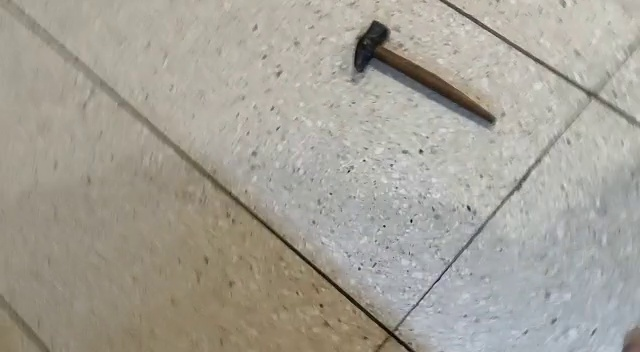hammer: (351, 19, 497, 127)
